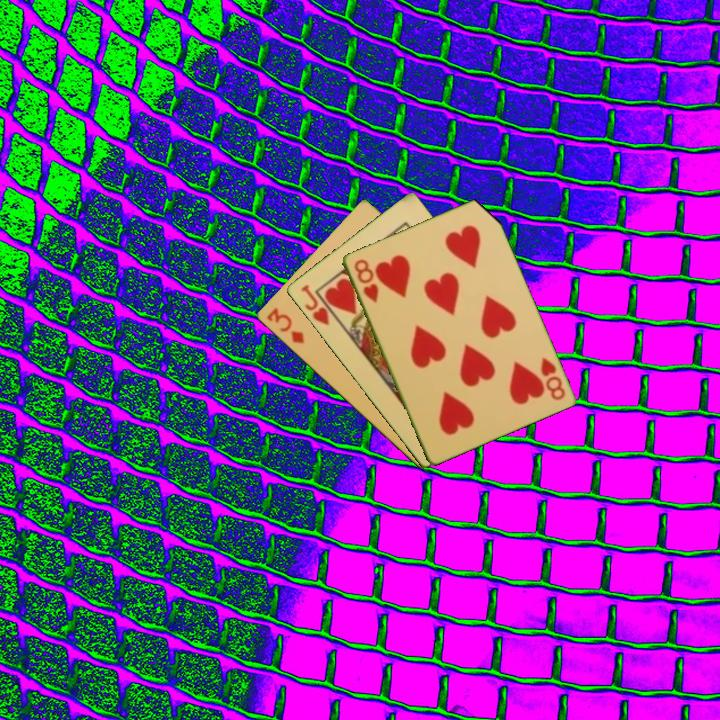3d: (263, 304, 307, 347)
8h: (536, 353, 568, 403), (350, 255, 381, 305)
Jh: (297, 281, 341, 328)
